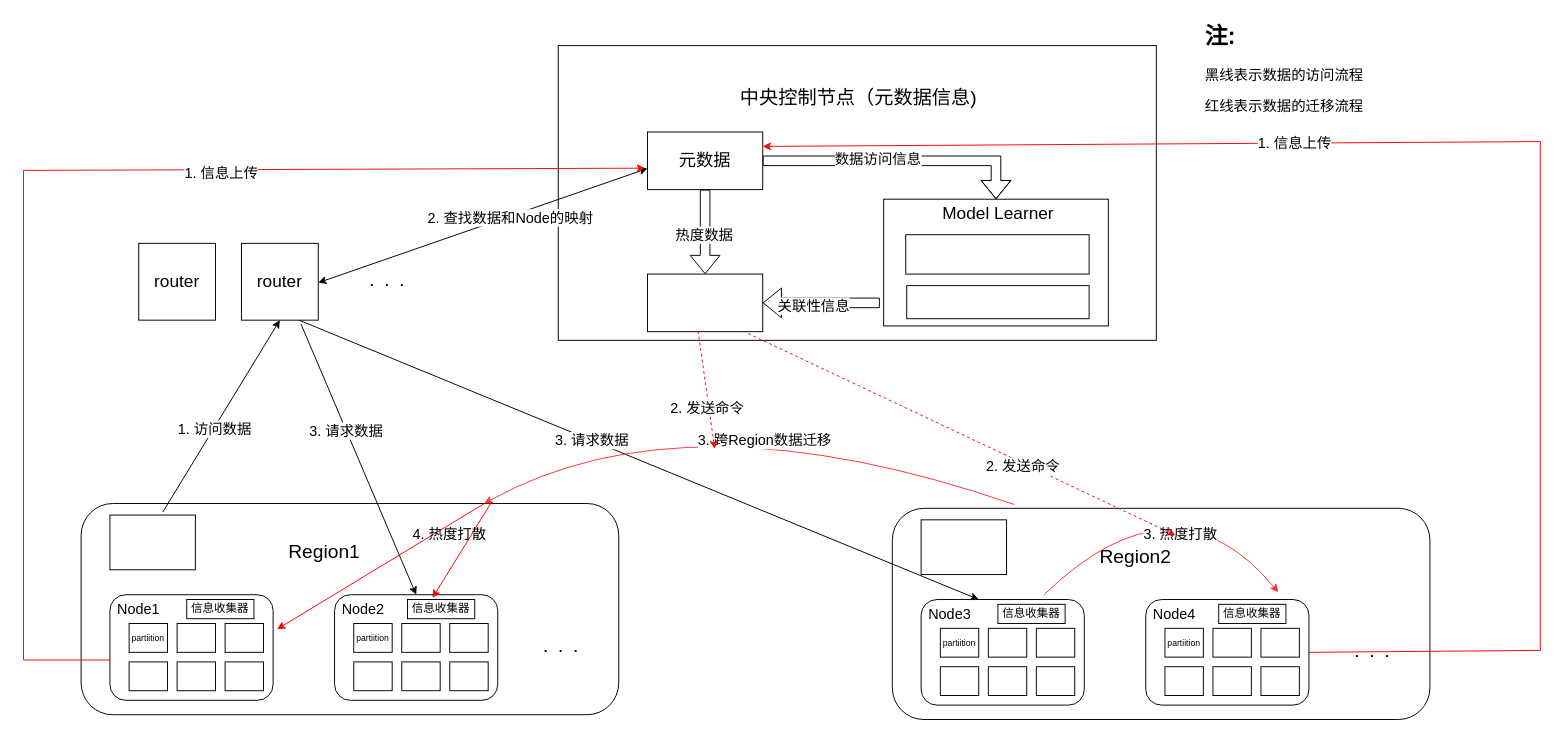
Image size: 1565x736. Some labels were removed from this diagram. The shapes that lost their labels are listed below. From the top down, each one's centre as x and y in pixels, then its label:
the point at 997,254: 访问者与数据的关联性学习 主成分分析算法
the point at 705,302: 迁移决策器
the point at 997,302: 数据与数据的关联性学习 Apriori算法
the point at 152,542: Client1
the point at 963,547: Client2
